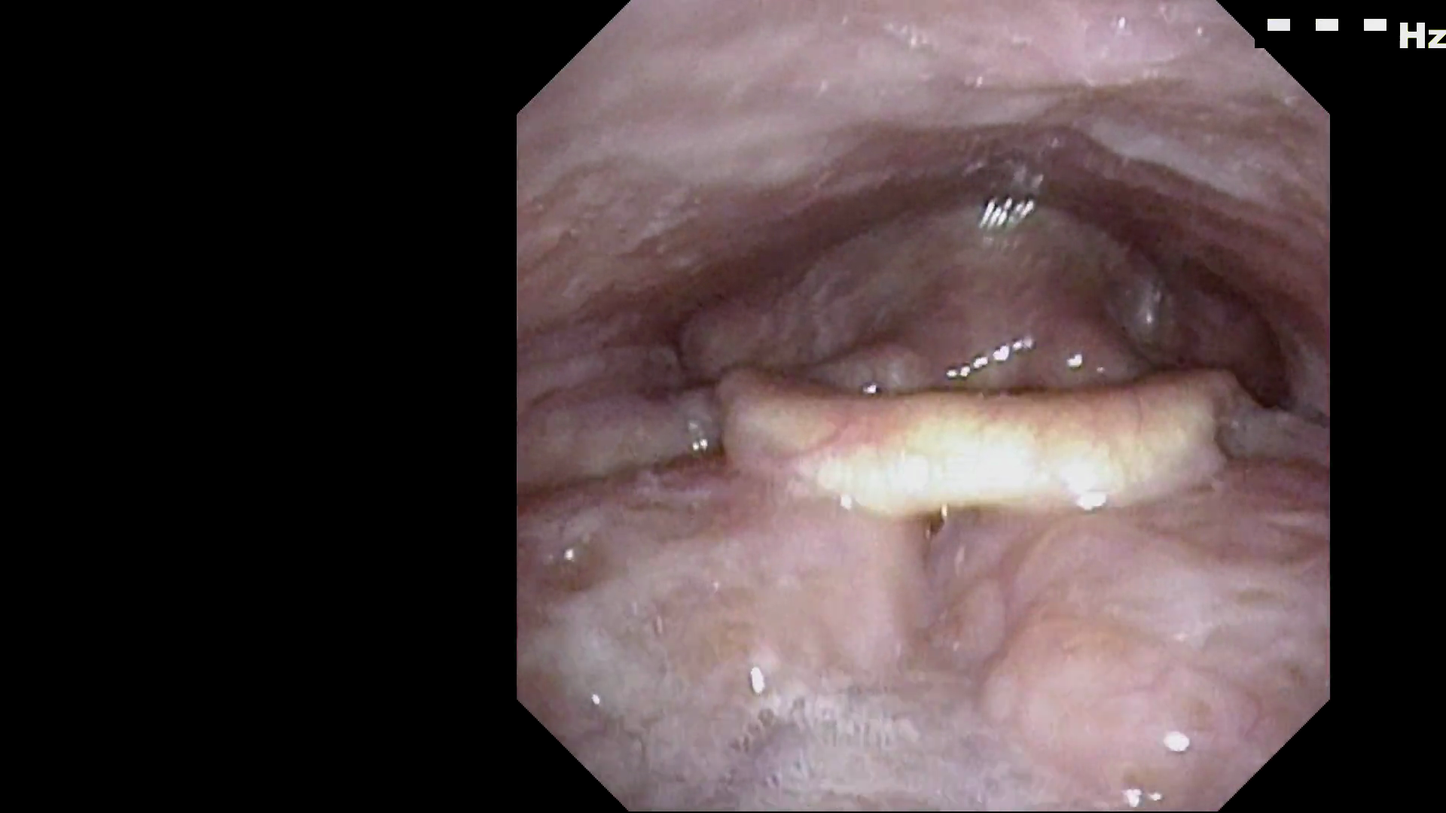epiglottis: (700, 342, 1272, 595)
trachea: (934, 358, 1052, 481)
